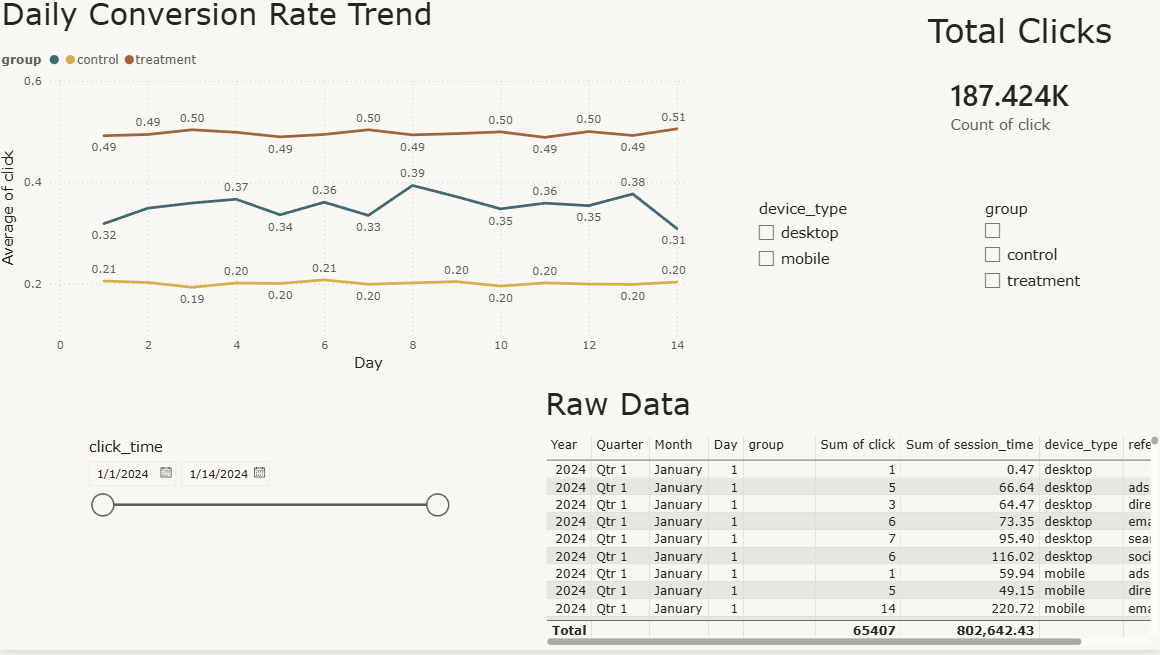

The dashboard page shown, as its layout file describes it:
{"tool":"powerbi","page":{"name":"Trends & Details","canvas":[1280,720],"ordinal":2},"visuals":[{"type":"lineChart","title":"Daily Conversion Rate Trend","fields":{"Category":["cleaned_ab_test_data.click_time.Variation.Date Hierarchy.Day"],"Y":["Avg(cleaned_ab_test_data.click)"],"Series":["cleaned_ab_test_data.group"]},"box":[0,0,761.6,418.5],"z":0},{"type":"tableEx","title":"Raw Data","fields":{"Values":["cleaned_ab_test_data.click_time.Variation.Date Hierarchy.Year","cleaned_ab_test_data.click_time.Variation.Date Hierarchy.Quarter","cleaned_ab_test_data.click_time.Variation.Date Hierarchy.Month","cleaned_ab_test_data.click_time.Variation.Date Hierarchy.Day","cleaned_ab_test_data.group","Sum(cleaned_ab_test_data.click)","Sum(cleaned_ab_test_data.session_time)","cleaned_ab_test_data.device_type","cleaned_ab_test_data.referral_source"]},"box":[596.9,428.1,683.4,292.3],"z":1000},{"type":"cardVisual","title":"Total Clicks","fields":{"Data":["CountNonNull(cleaned_ab_test_data.click)"]},"box":[1016.8,17.8,218.2,150.9],"z":1001},{"type":"slicer","fields":{"Values":["cleaned_ab_test_data.click_time"]},"box":[87.8,481.6,417.2,186.6],"z":1002},{"type":"slicer","fields":{"Values":["cleaned_ab_test_data.group"]},"box":[1071.7,220.9,188,138.6],"z":1003},{"type":"slicer","fields":{"Values":["cleaned_ab_test_data.device_type"]},"box":[823.3,220.9,193.5,124.9],"z":1004}]}

Visuals, with their boxes in screenshot pixels (x1, y1, x2, y2), scaled from the page's 1280x720 canvas onto the 1160x655 screenshot:
"Daily Conversion Rate Trend" lineChart: bbox=[0, 0, 690, 381]
"Raw Data" tableEx: bbox=[541, 389, 1159, 654]
"Total Clicks" cardVisual: bbox=[921, 16, 1119, 153]
slicer - cleaned_ab_test_data.click_time: bbox=[80, 438, 458, 608]
slicer - cleaned_ab_test_data.group: bbox=[971, 201, 1142, 327]
slicer - cleaned_ab_test_data.device_type: bbox=[746, 201, 921, 315]
